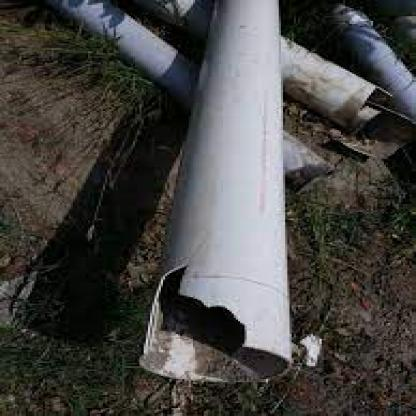PVC: (57, 0, 392, 385), (332, 6, 414, 116)
